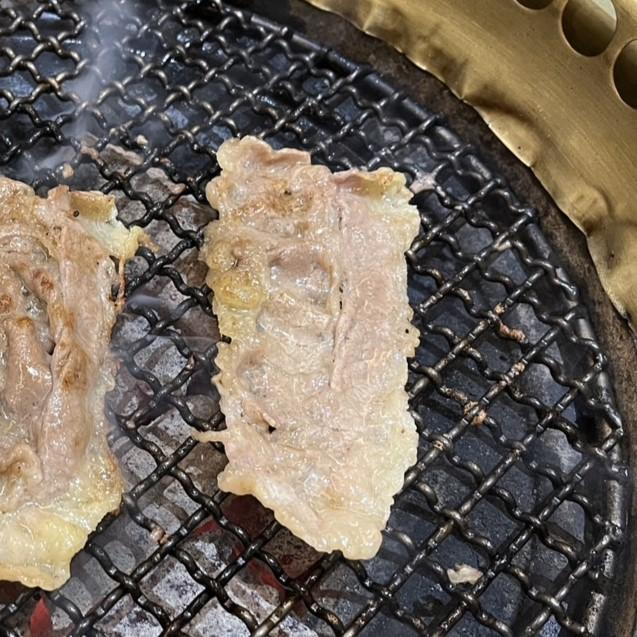Overcooked: (0, 174, 146, 593)
Well-Cooked: (199, 137, 421, 563)
